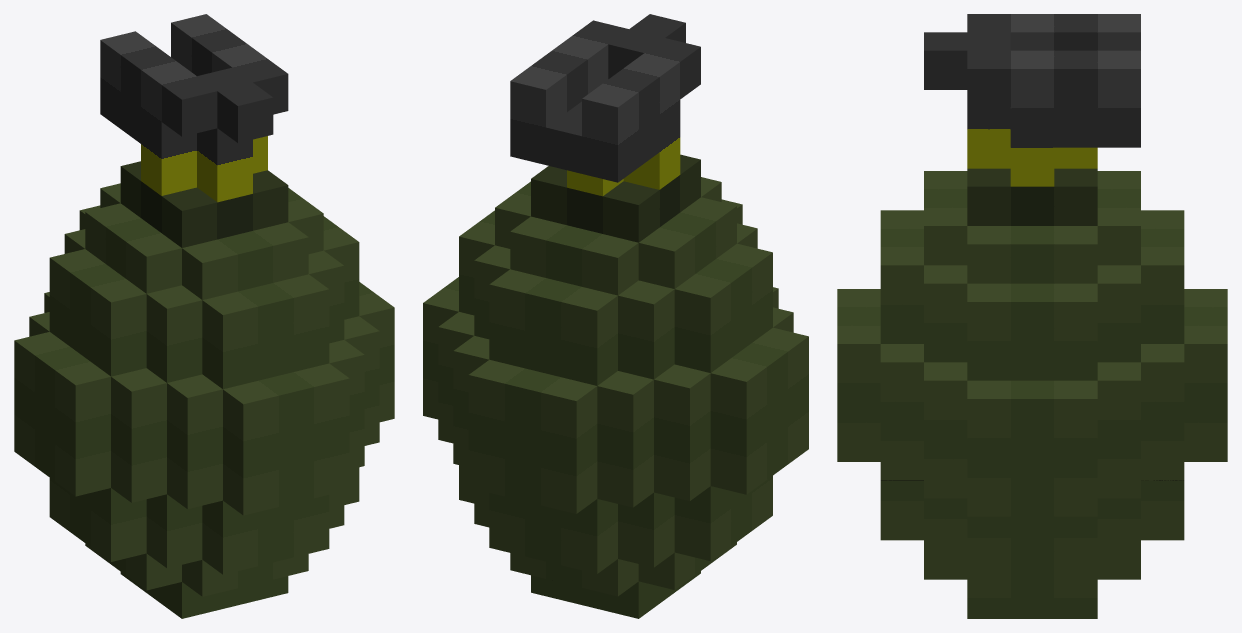
File: MkGranadeBody.fbx
3 renders of one model, left to right at view 1: azimuth 30°, elevation 25°; view 2: azimuth 150°, elevation 25°; view 3: azimuth 270°, elevation 25°, orthographic. The views are drawn at different scales.
Visible parts, largest first — view 1: MkGranadeBody.001; view 2: MkGranadeBody.001; view 3: MkGranadeBody.001.
Boxes of the visible parts, box(x1,y1,x2,y2) form: MkGranadeBody.001: box(14, 14, 394, 618); MkGranadeBody.001: box(423, 14, 808, 618); MkGranadeBody.001: box(837, 14, 1227, 618).
Bounding box in the file's own units: 0.9 × 1.4 × 0.9.
Materials: 1 (1 with a texture image).
